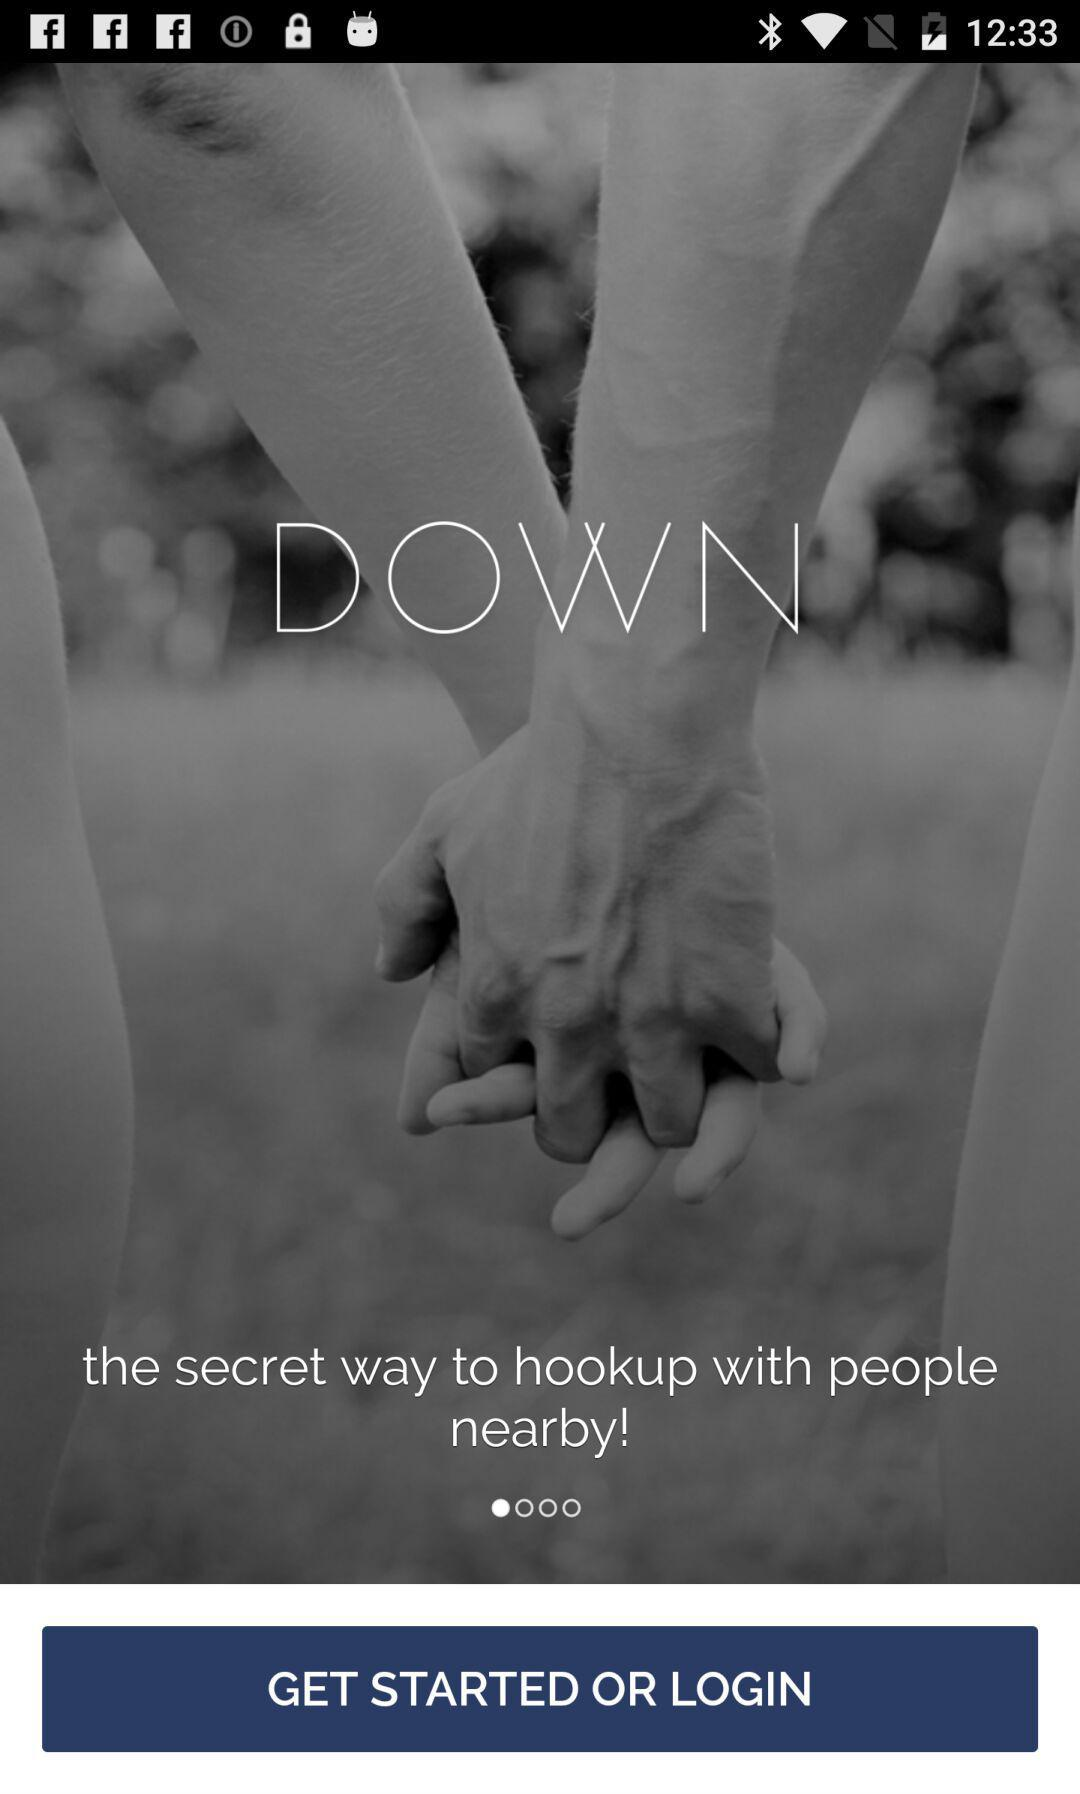BackgroundImage: (1, 64, 1080, 1584)
PageIndicator: (491, 1497, 583, 1518)
Text: (81, 1344, 999, 1460), (275, 518, 799, 638)
TextButton: (44, 1626, 1039, 1753)
UpperTaskBar: (1, 1, 1080, 64)
